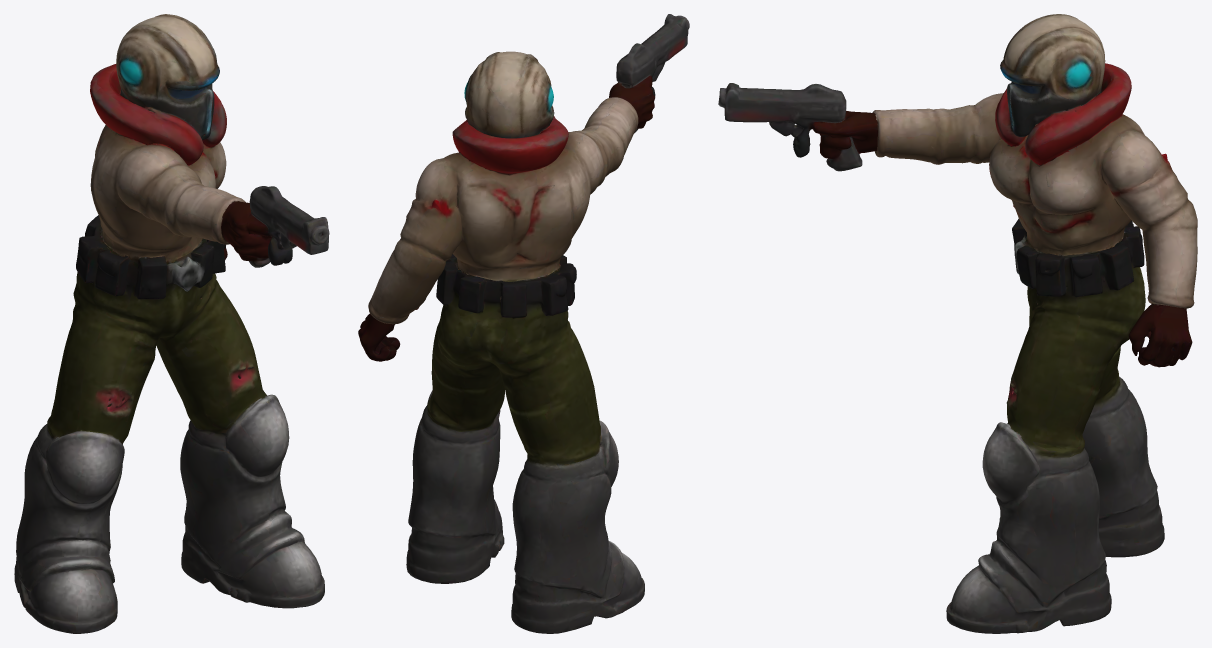
The model's file is POSSF1_2026-08-15T181938.572.glb.
3 views of the same model, side by side, from view 1: azimuth 30°, elevation 25°; view 2: azimuth 150°, elevation 25°; view 3: azimuth 270°, elevation 25° (orthographic). The views are drawn at different scales.
Parts seen in each view (by area): view 1: world; view 2: world; view 3: world.
Part boxes in pixels (<box>): world: <box>14,14,329,633</box>; world: <box>358,14,689,633</box>; world: <box>718,14,1197,633</box>.
Size of the model in its own units: 0.4696 by 1 by 0.7843.
Materials: 1 (1 with a texture image).
